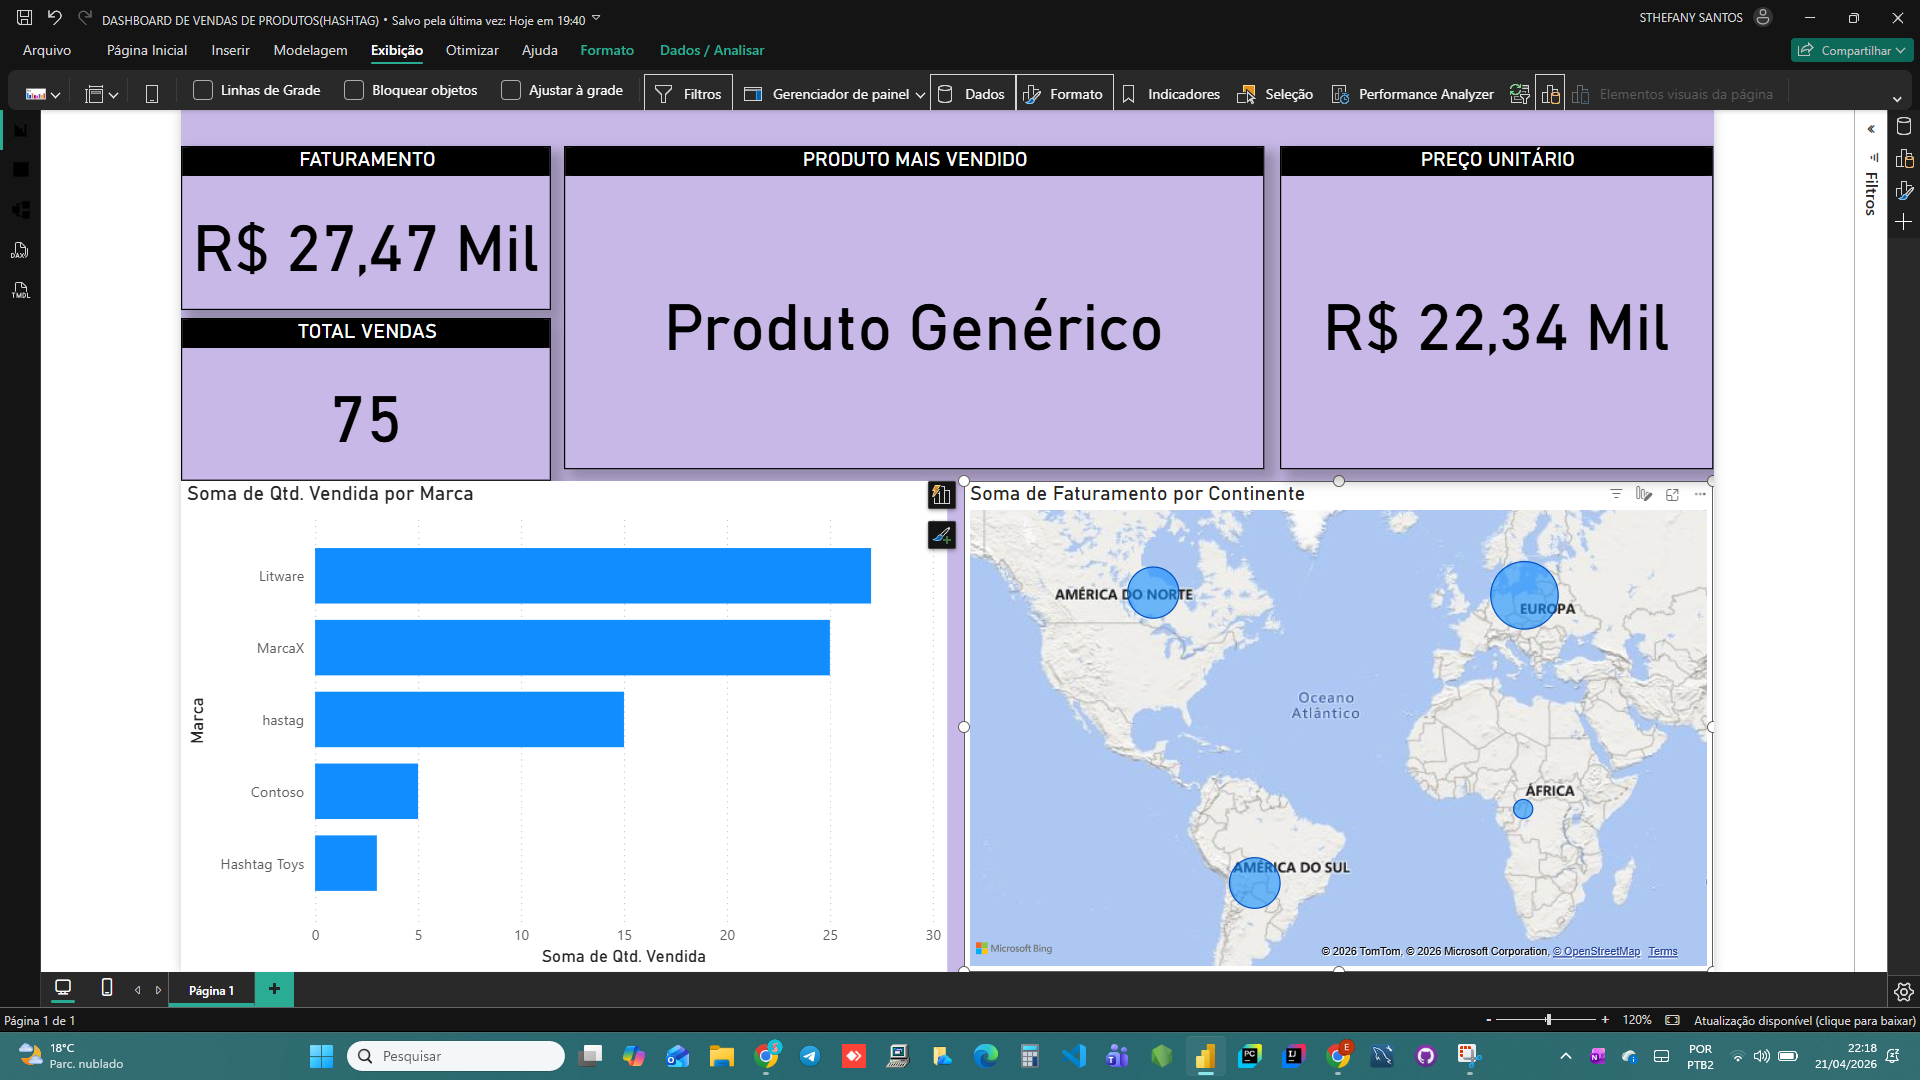

The dashboard page shown, as its layout file describes it:
{"tool":"powerbi","page":{"name":"Página 1","canvas":[1280,720],"ordinal":0},"visuals":[{"type":"card","title":"FATURAMENTO","fields":{"Values":["Sum(Vendas.Faturamento)"]},"box":[0,30.2,309.3,137.1],"z":0},{"type":"card","title":"TOTAL VENDAS","fields":{"Values":["Sum(Vendas.Qtd. Vendida)"]},"box":[0,174.1,309.3,136.2],"z":1000},{"type":"card","title":"PRODUTO MAIS VENDIDO","fields":{"Values":["Min(Vendas.Produto)"]},"box":[320,30.2,584.6,270.4],"z":2000},{"type":"map","fields":{"Category":["Vendas.Continente"],"Size":["Sum(Vendas.Faturamento)"]},"box":[653.8,310,626.2,410],"z":4000},{"type":"card","title":"PREÇO UNITÁRIO","fields":{"Values":["Sum(Vendas.Preco Unitario)"]},"box":[918.2,30.2,361.8,270.4],"z":5000},{"type":"barChart","fields":{"Category":["Vendas.Marca"],"Y":["Sum(Vendas.Qtd. Vendida)"]},"box":[0,310,640,410],"z":5001}]}

Visuals, with their boxes on the page's 1280x720 design canvas (x1, y1, x2, y2). These are canvas units, not pixel positions in the 1920x1080 screenshot, which may show the page scaled, cropped or inside an application window:
"FATURAMENTO" card: 0,30,309,167
"TOTAL VENDAS" card: 0,174,309,310
"PRODUTO MAIS VENDIDO" card: 320,30,905,301
map - Vendas.Continente x Sum(Vendas.Faturamento): 654,310,1280,720
"PREÇO UNITÁRIO" card: 918,30,1280,301
barChart - Vendas.Marca x Sum(Vendas.Qtd. Vendida): 0,310,640,720
